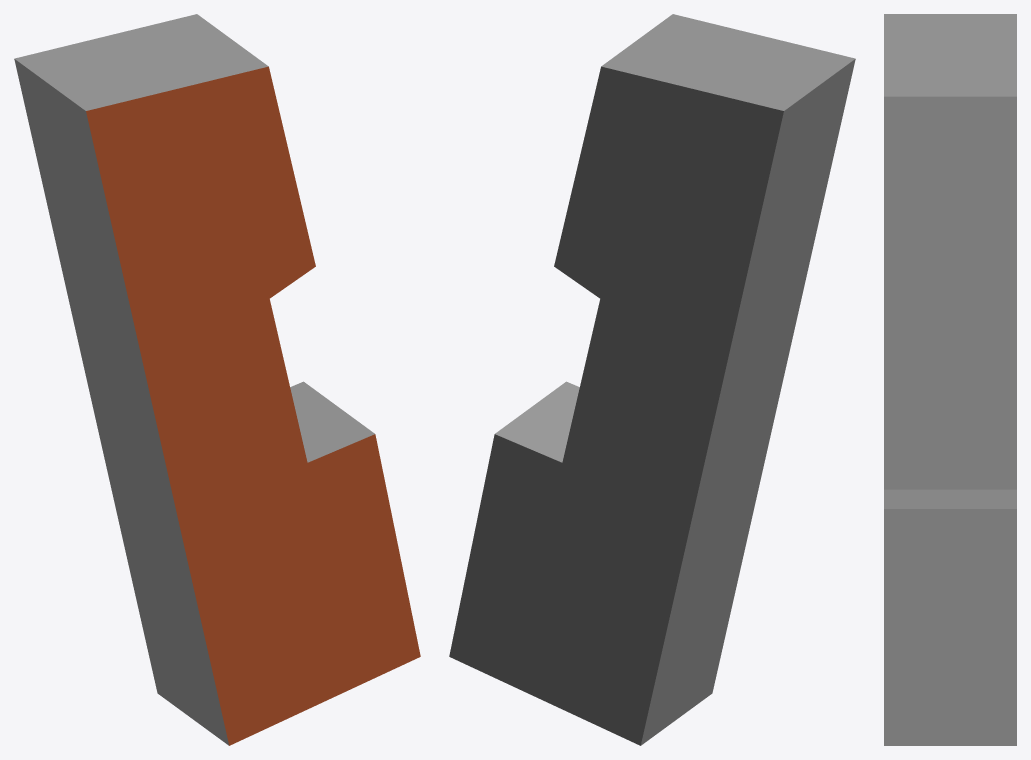
The model's file is construction_2696_assumed_A_Casa_h6m.obj.
The picture shows the model from 3 angles, left to right: view 1: azimuth 30°, elevation 25°; view 2: azimuth 150°, elevation 25°; view 3: azimuth 270°, elevation 25°; orthographic projection. The views are drawn at different scales.
Visible parts, largest first — view 1: construction_2696_assumed_A_Casa; view 2: construction_2696_assumed_A_Casa; view 3: construction_2696_assumed_A_Casa.
Boxes of the visible parts, x1,y1,x2,y2 form: construction_2696_assumed_A_Casa: [14, 14, 420, 745]; construction_2696_assumed_A_Casa: [449, 14, 855, 745]; construction_2696_assumed_A_Casa: [884, 14, 1016, 745].
Bounding box in the file's own units: 16.16 × 30.9 × 6.
